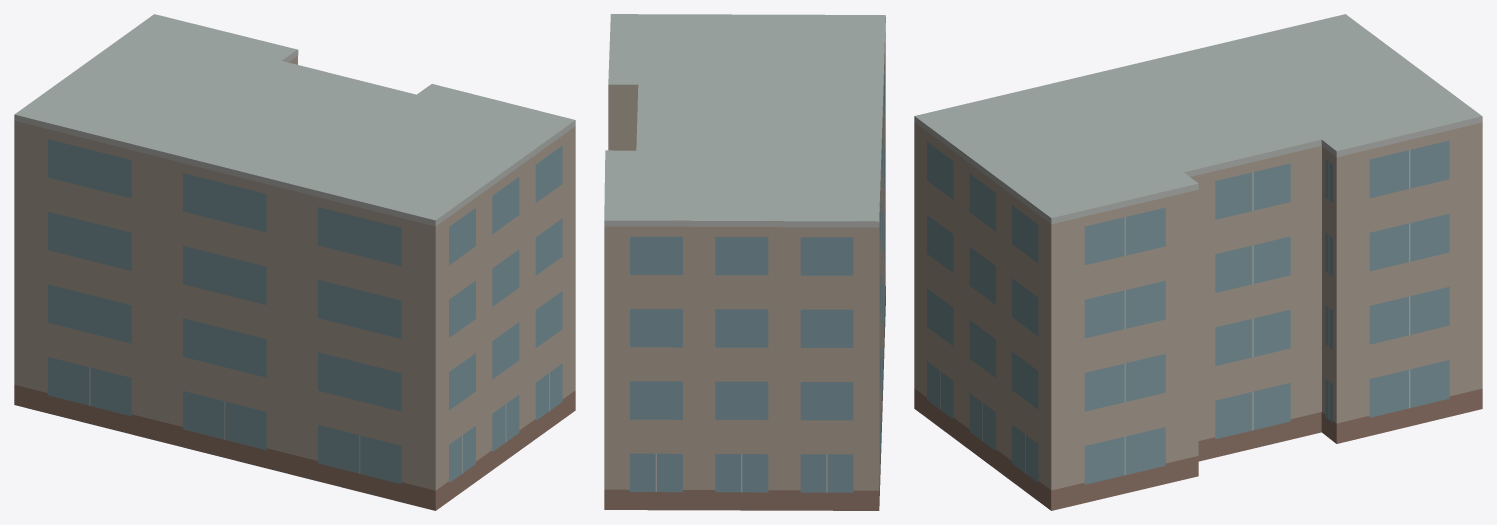
Rendered from survey-upis-32956472.glb.
The picture shows the model from 3 angles, left to right: view 1: azimuth 30°, elevation 25°; view 2: azimuth 150°, elevation 25°; view 3: azimuth 270°, elevation 25°; orthographic projection.
Parts seen in each view (by area): view 1: survey-upis-32956472.tmp; view 2: survey-upis-32956472.tmp; view 3: survey-upis-32956472.tmp.
Boxes of the visible parts, x1,y1,x2,y2 form: survey-upis-32956472.tmp: (14,14,575,510); survey-upis-32956472.tmp: (604,14,885,510); survey-upis-32956472.tmp: (914,14,1482,510).
Size of the model in its own units: 17.52 by 11.7 by 20.59.
